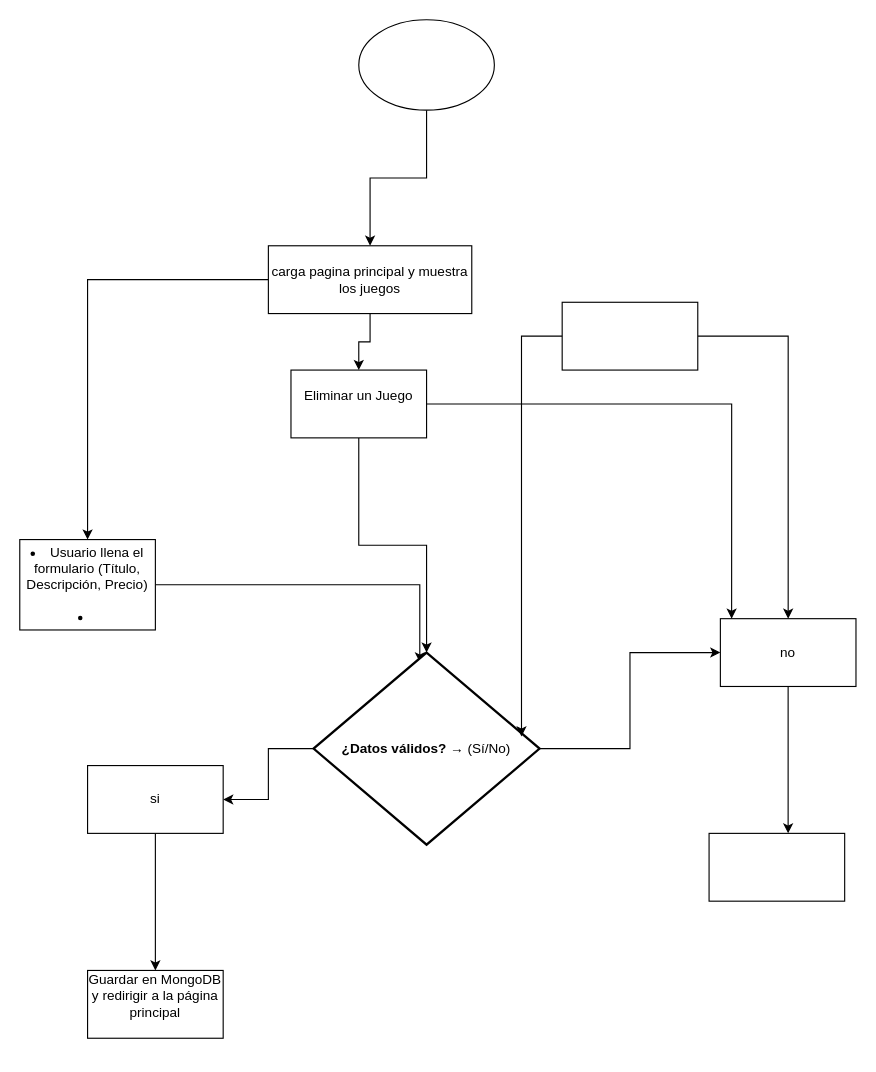
This 876x1072 diagram has some shape labels left out. The centre of each missing label's shape, as x and y in pixels:
"Editar un Juego" belongs at (x=629, y=335).
"inicio" belongs at (x=426, y=64).
"Mostrar error" belongs at (x=776, y=866).
